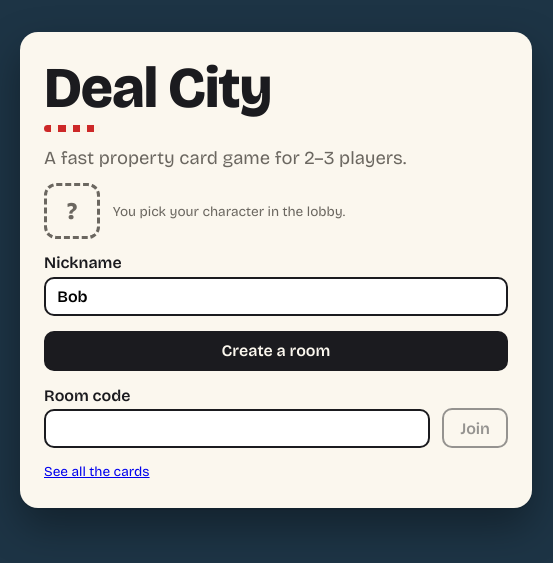
Home › shows join errors inline
Step 1. Type "zzzzzz" into the field labelled "Room code" → {"x": 237, "y": 429}, box [44,409,430,448]
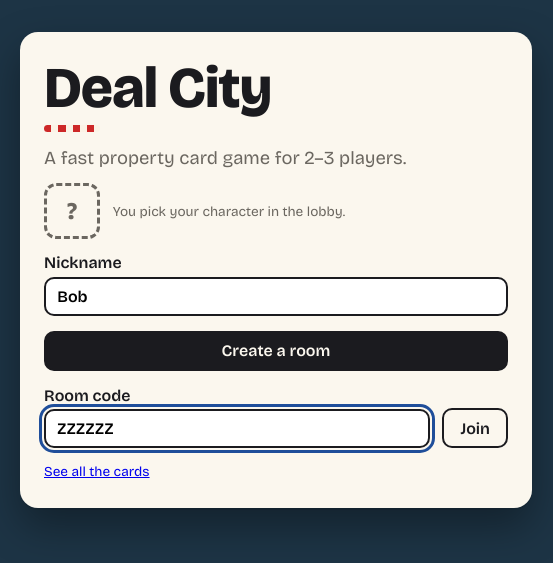
Step 2. Click the button "Join" → {"x": 475, "y": 428}, box [442,408,508,448]
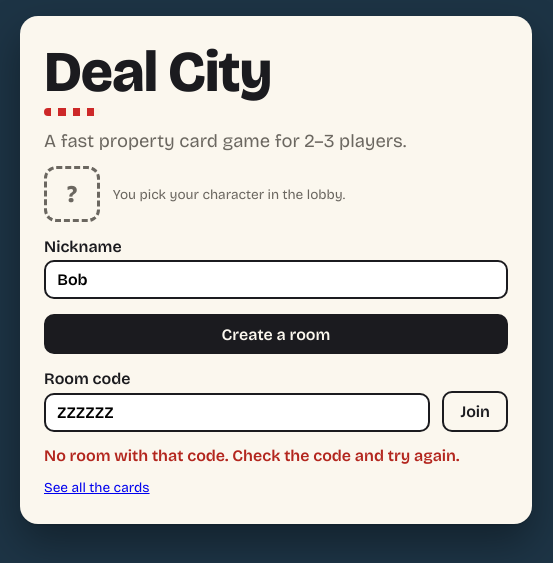
Check: the message reads "No room with that code. Check the code and try again.", box [44,446,460,465]
